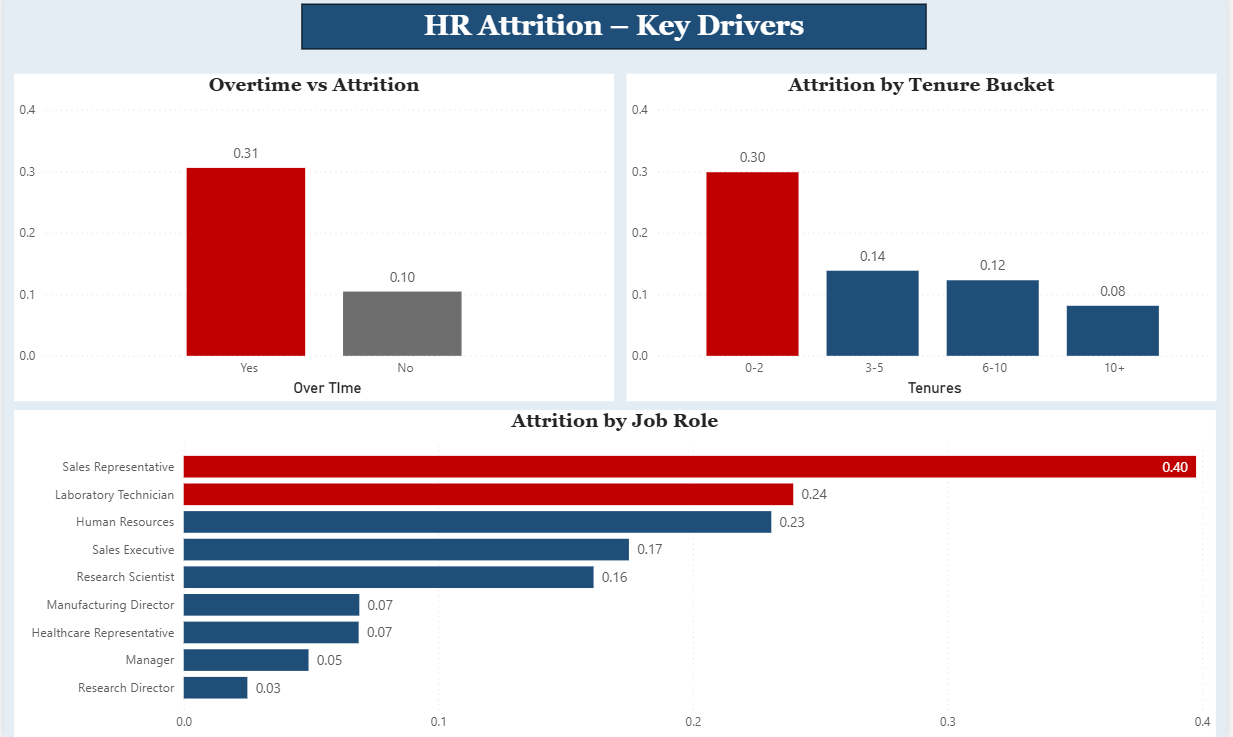

The page's visual inventory and layout, read from the dashboard file:
{"tool":"powerbi","page":{"name":"ATTRITION DRIVERS","canvas":[1180,720],"ordinal":1},"visuals":[{"type":"barChart","title":"Attrition by Job Role","fields":{"Category":["hr_attrition_fe.JobRole"],"Y":["hr_attrition_fe.Attrition Rate"]},"box":[10.1,401,1160,318.8],"z":0},{"type":"clusteredColumnChart","title":"Overtime vs Attrition","fields":{"Y":["hr_attrition_fe.Attrition Rate"],"Category":["hr_attrition_fe.OverTime"]},"box":[10.1,75.9,579.4,316.3],"z":1000},{"type":"columnChart","title":"Attrition by Tenure Bucket","fields":{"Y":["hr_attrition_fe.Attrition Rate"],"Category":["hr_attrition_fe.TenureBucket"]},"box":[600.9,75.9,569.3,316.3],"z":2000},{"type":"textbox","box":[287.2,8.9,603.4,44.3],"z":3000}]}

Visuals, with their boxes in screenshot pixels (x1, y1, x2, y2), scaled from the page's 1180x720 canvas onto the 1233x737 screenshot:
"Attrition by Job Role" barChart: [11,410,1223,736]
"Overtime vs Attrition" clusteredColumnChart: [11,78,616,401]
"Attrition by Tenure Bucket" columnChart: [628,78,1223,401]
textbox: [300,9,931,54]
